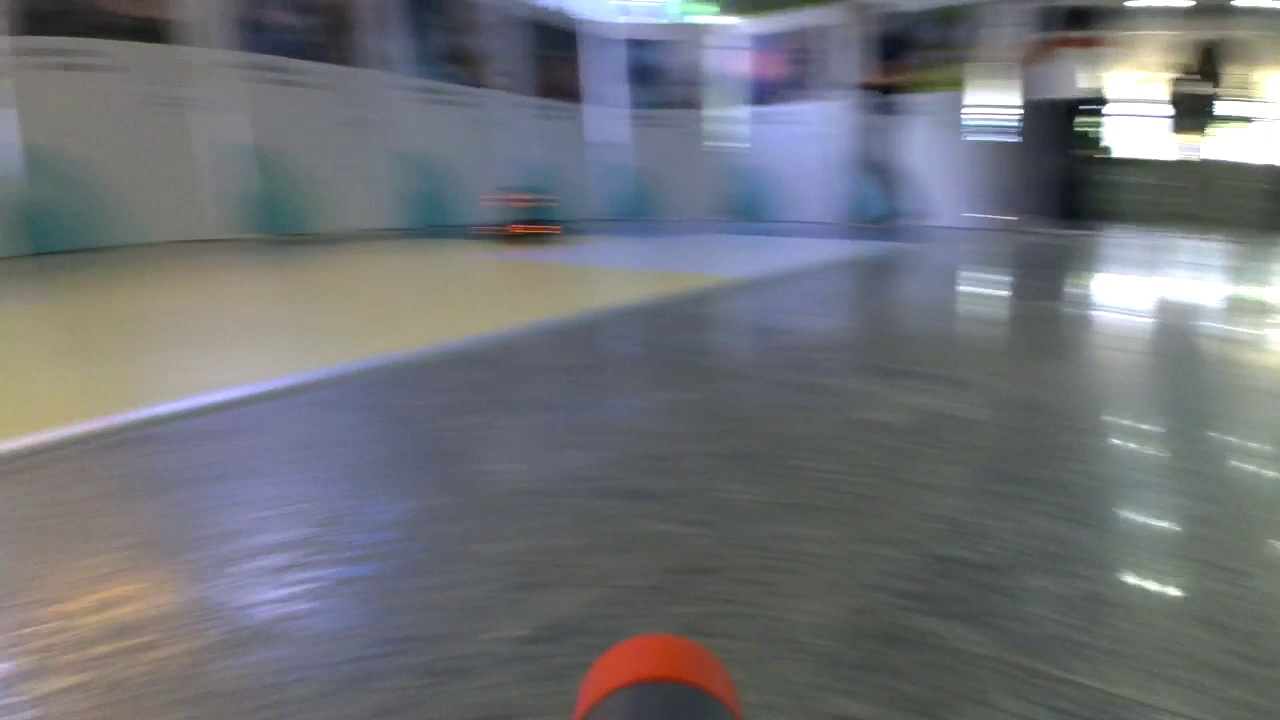robot: (490, 190, 560, 242)
